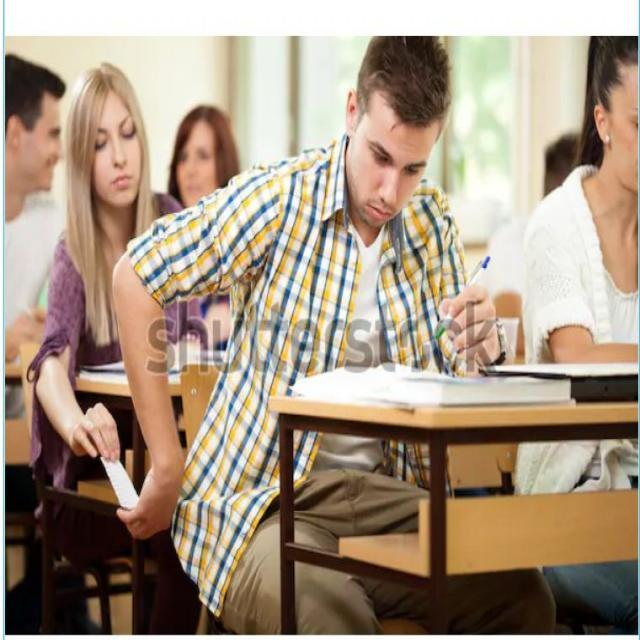cheating: (40, 347, 204, 554)
